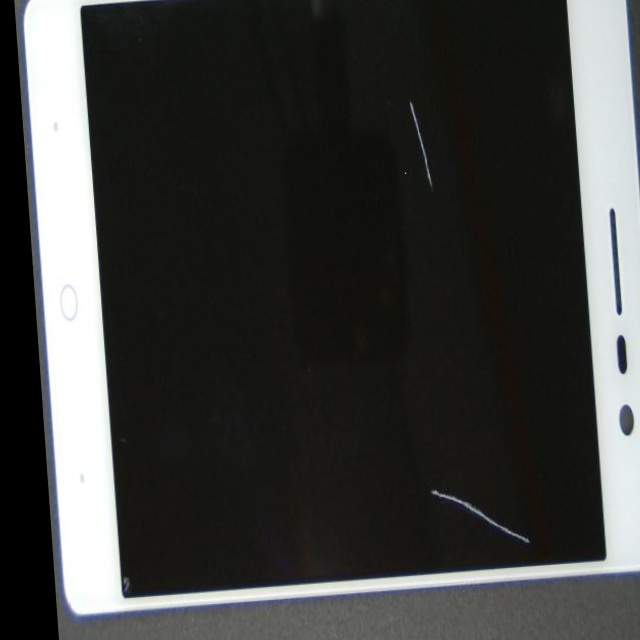scratch: (152, 165, 640, 640), (193, 0, 602, 273)
